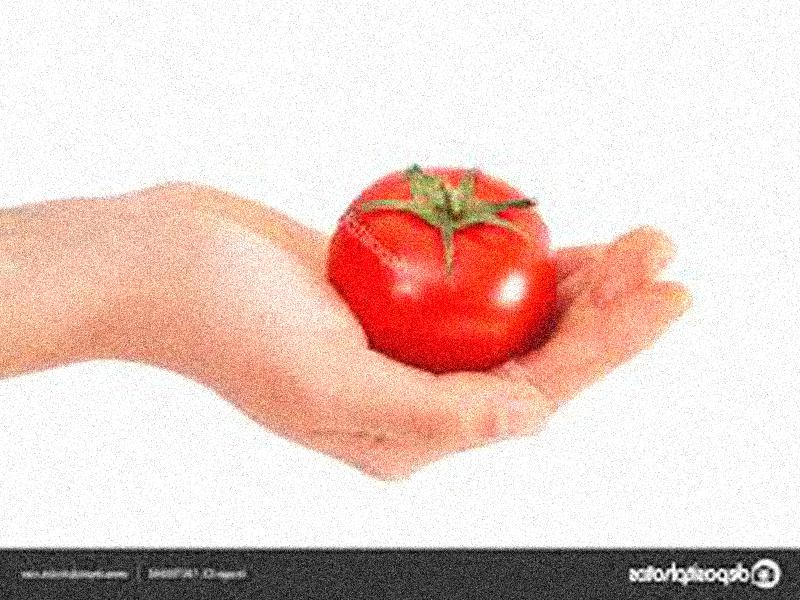Tomato: (324, 169, 550, 369)
